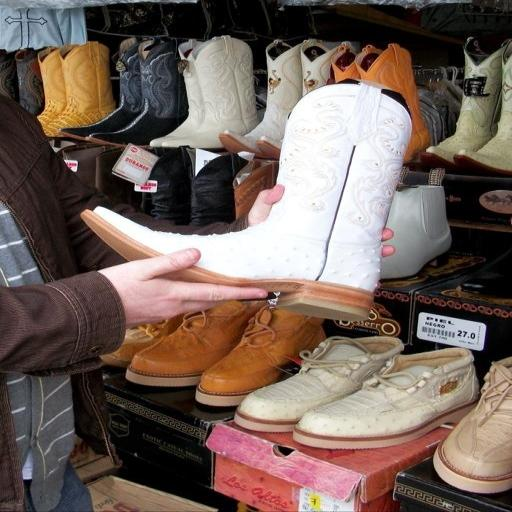boots: (82, 81, 411, 320), (195, 304, 325, 407), (150, 36, 258, 150), (126, 300, 261, 386), (420, 37, 506, 169), (433, 357, 512, 494), (87, 39, 188, 146), (218, 39, 303, 157), (256, 38, 336, 160), (355, 43, 430, 163), (59, 37, 143, 140), (149, 146, 249, 225), (454, 39, 512, 175), (41, 42, 115, 136), (381, 184, 452, 280), (100, 315, 183, 368), (149, 146, 195, 225), (37, 44, 76, 136), (233, 159, 278, 219), (460, 249, 512, 298), (15, 48, 44, 116), (331, 42, 359, 82), (0, 50, 18, 100)
shoe: (295, 344, 480, 449), (234, 337, 403, 431)
